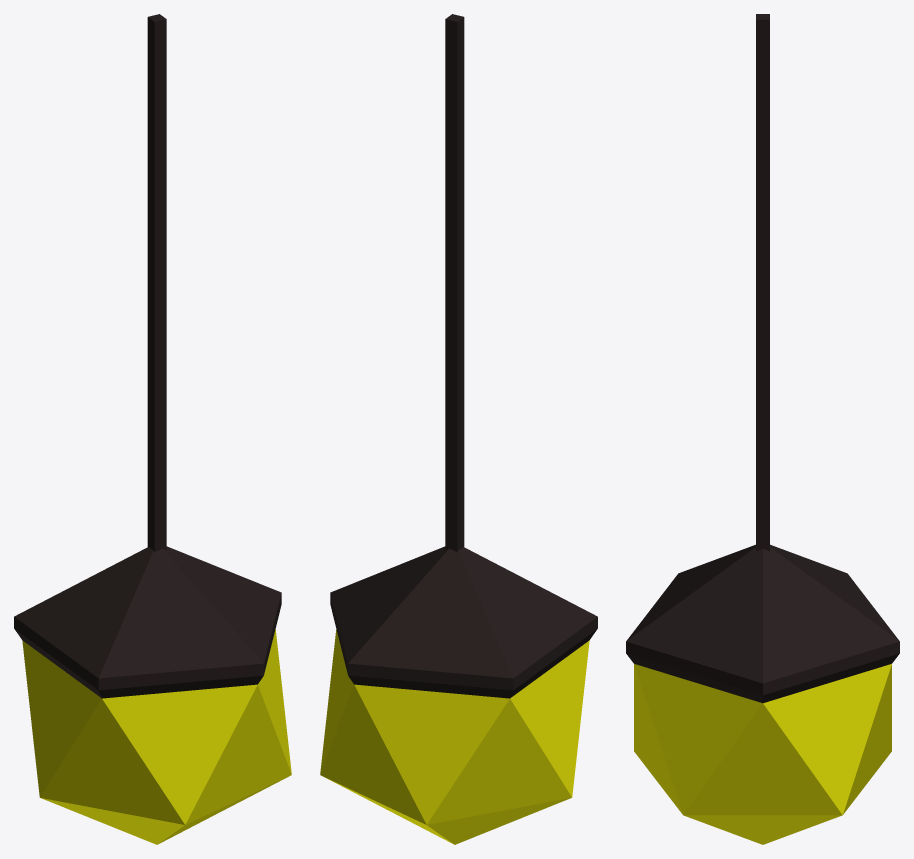
The model's file is Light.fbx.
3 renders of one model, left to right at view 1: azimuth 30°, elevation 25°; view 2: azimuth 150°, elevation 25°; view 3: azimuth 270°, elevation 25°, orthographic.
Parts seen in each view (by area): view 1: Icosphere, Cube.022; view 2: Icosphere, Cube.022; view 3: Icosphere, Cube.022.
Boxes of the visible parts, bbox=[...] form: Icosphere: bbox=[14, 546, 291, 844]; Cube.022: bbox=[147, 14, 166, 552]; Icosphere: bbox=[320, 546, 597, 844]; Cube.022: bbox=[445, 14, 464, 552]; Icosphere: bbox=[626, 544, 899, 844]; Cube.022: bbox=[756, 14, 769, 551].
Bounding box in the file's own units: 149 × 488 × 146.
